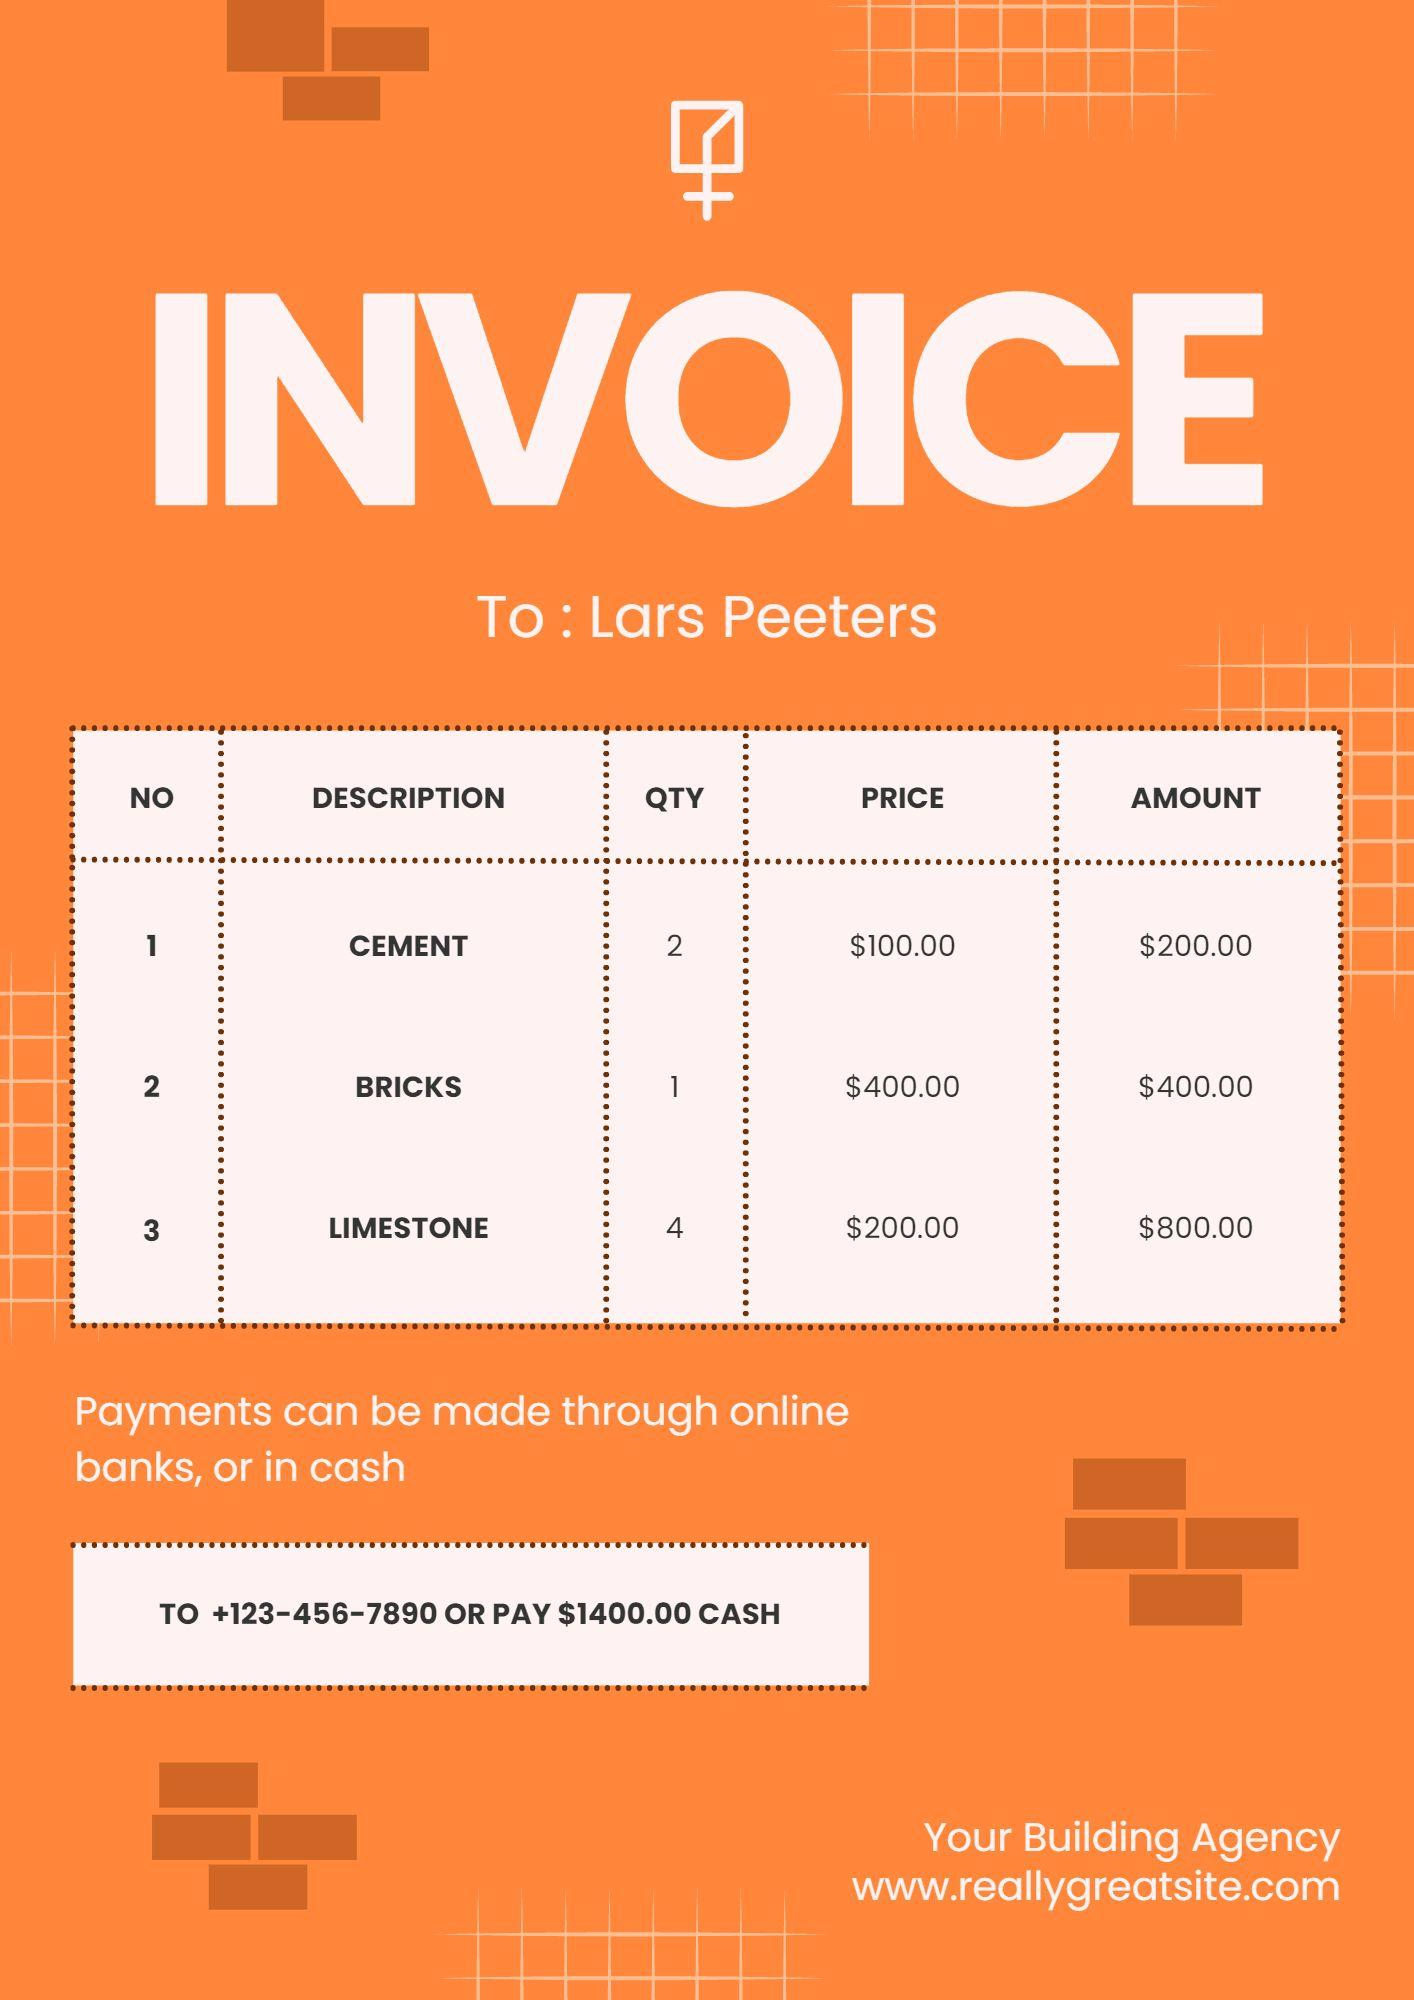ROI: (63, 719, 1354, 1344)
